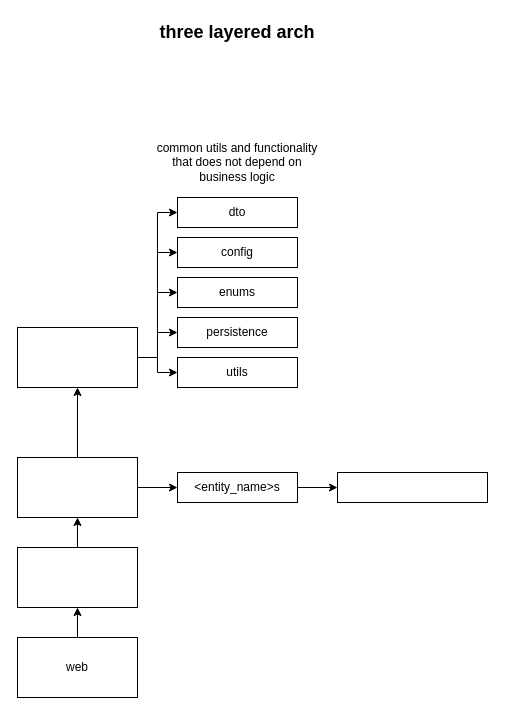
Some shapes in this 505 by 715 pixel diagram are drawn without their labels. The shapes that lost their labels are listed below. From the top down, each one's box as (x1, y1, x2, y2) in pixels, then its label:
(16, 326, 138, 388): core
(16, 456, 138, 518): model
(336, 472, 488, 502): repositories
(16, 546, 138, 608): service
